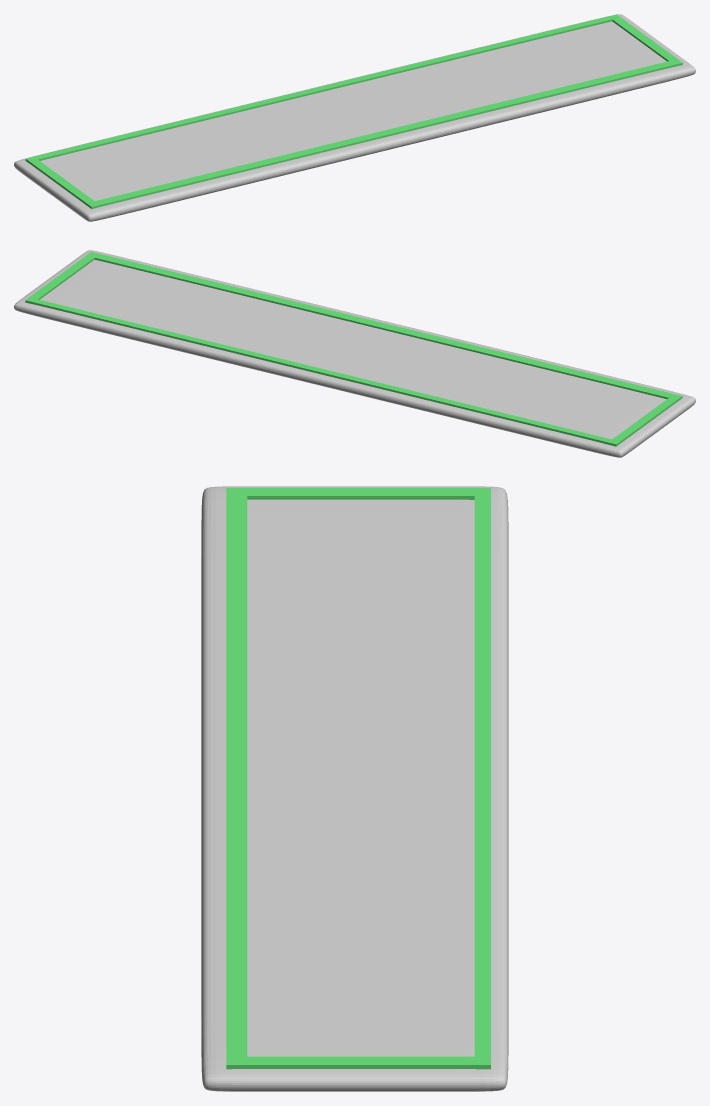
File: tablica.fbx
The picture shows the model from 3 angles, top to bottom: view 1: azimuth 30°, elevation 25°; view 2: azimuth 150°, elevation 25°; view 3: azimuth 270°, elevation 25°; orthographic projection. The views are drawn at different scales.
Visible parts, largest first — view 1: tablica, Cube; view 2: tablica, Cube; view 3: tablica, Cube.
Part boxes in pixels (x1,y1,x2,y2): tablica: (14, 14, 695, 221); Cube: (25, 14, 682, 208); tablica: (14, 250, 695, 457); Cube: (25, 252, 682, 446); tablica: (201, 486, 508, 1091); Cube: (226, 488, 490, 1069).
Bounding box in the file's own units: 911 × 15.98 × 199.
